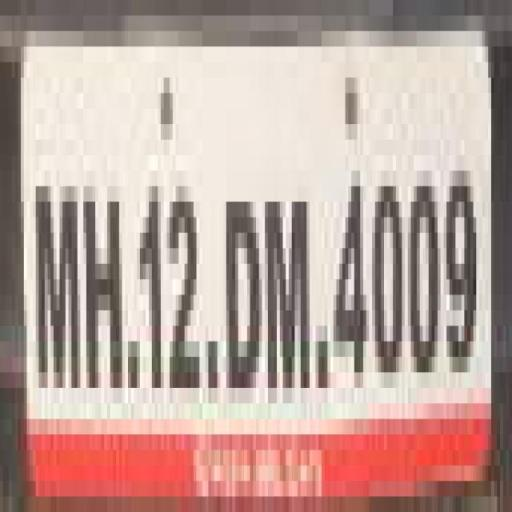number plate: (17, 15, 512, 450)
